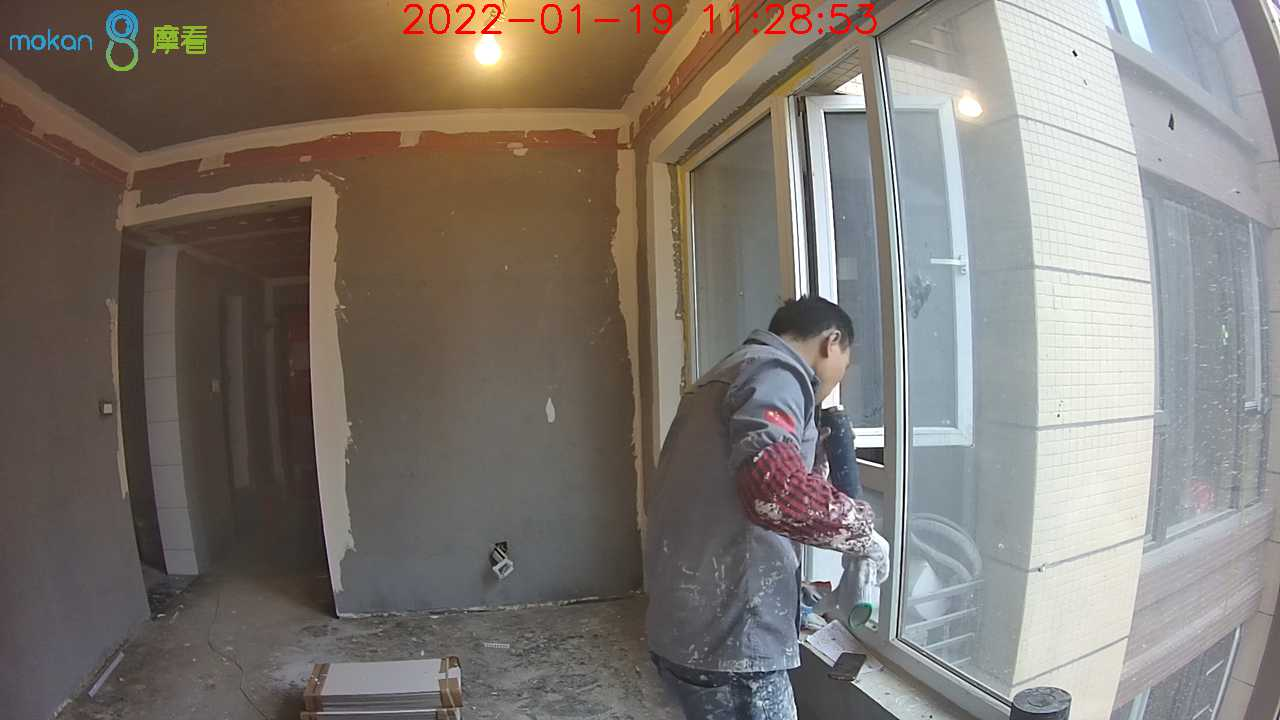people: (641, 294, 893, 720)
window: (678, 2, 1280, 719)
